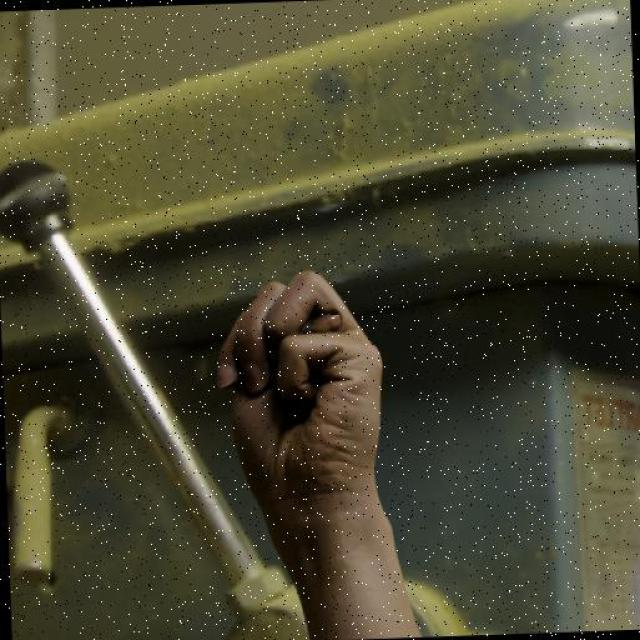M: (206, 263, 392, 518)
